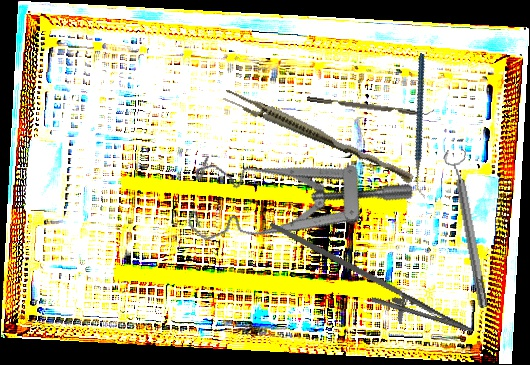Chopper: (372, 52, 473, 200), (306, 90, 435, 119)
Fixation Ring: (442, 147, 495, 310)
Needle Holder: (253, 221, 484, 350)
Speculum: (173, 111, 418, 303)
Tissue Forceps: (220, 87, 418, 185)
